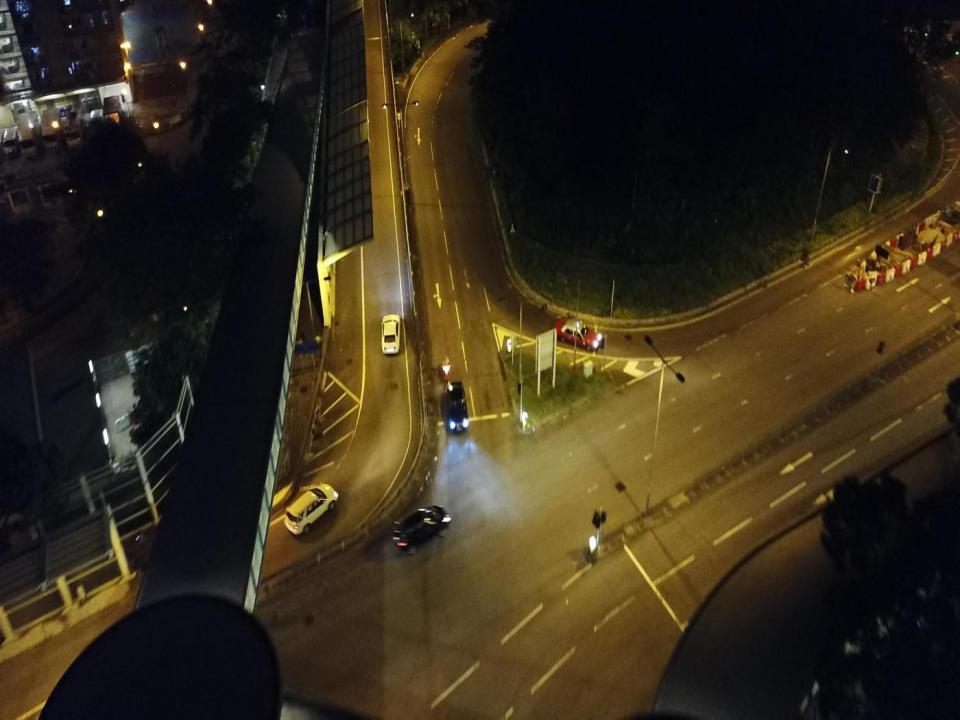car: (390, 504, 451, 554), (283, 483, 339, 536), (552, 317, 603, 353), (444, 380, 469, 432), (380, 312, 401, 356), (3, 125, 20, 159)
truck: (63, 106, 86, 150), (40, 107, 61, 153)
van: (17, 111, 41, 159), (88, 108, 105, 143)
